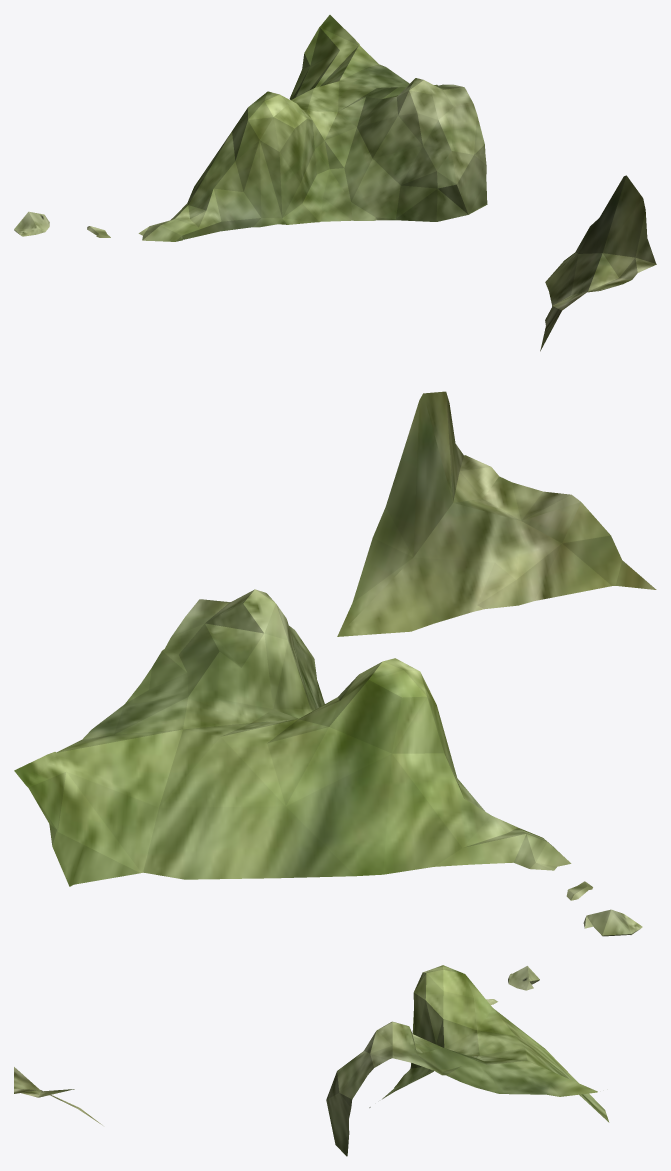
3 views of the same model, one above another, from view 1: azimuth 30°, elevation 25°; view 2: azimuth 150°, elevation 25°; view 3: azimuth 270°, elevation 25° (orthographic). The views are drawn at different scales.
Size of the model in its own units: 1.99 by 0.6514 by 2.95.
Materials: 1 (1 with a texture image).
